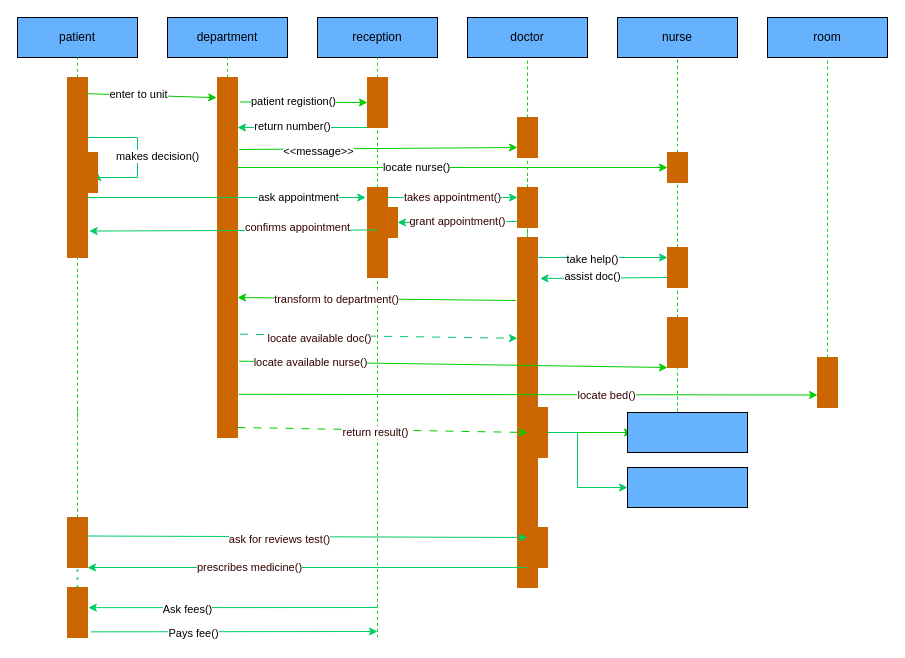
The diagram is 905 pixels wide and 658 high, and some of its shapes have lost their labels. The shapes that lost their labels are listed below. From the top down, each one's box as (x1, y1, x2, y2) in pixels, then its label:
(626, 412, 748, 452): patient treatment
(626, 466, 748, 508): case not recover trans to another
